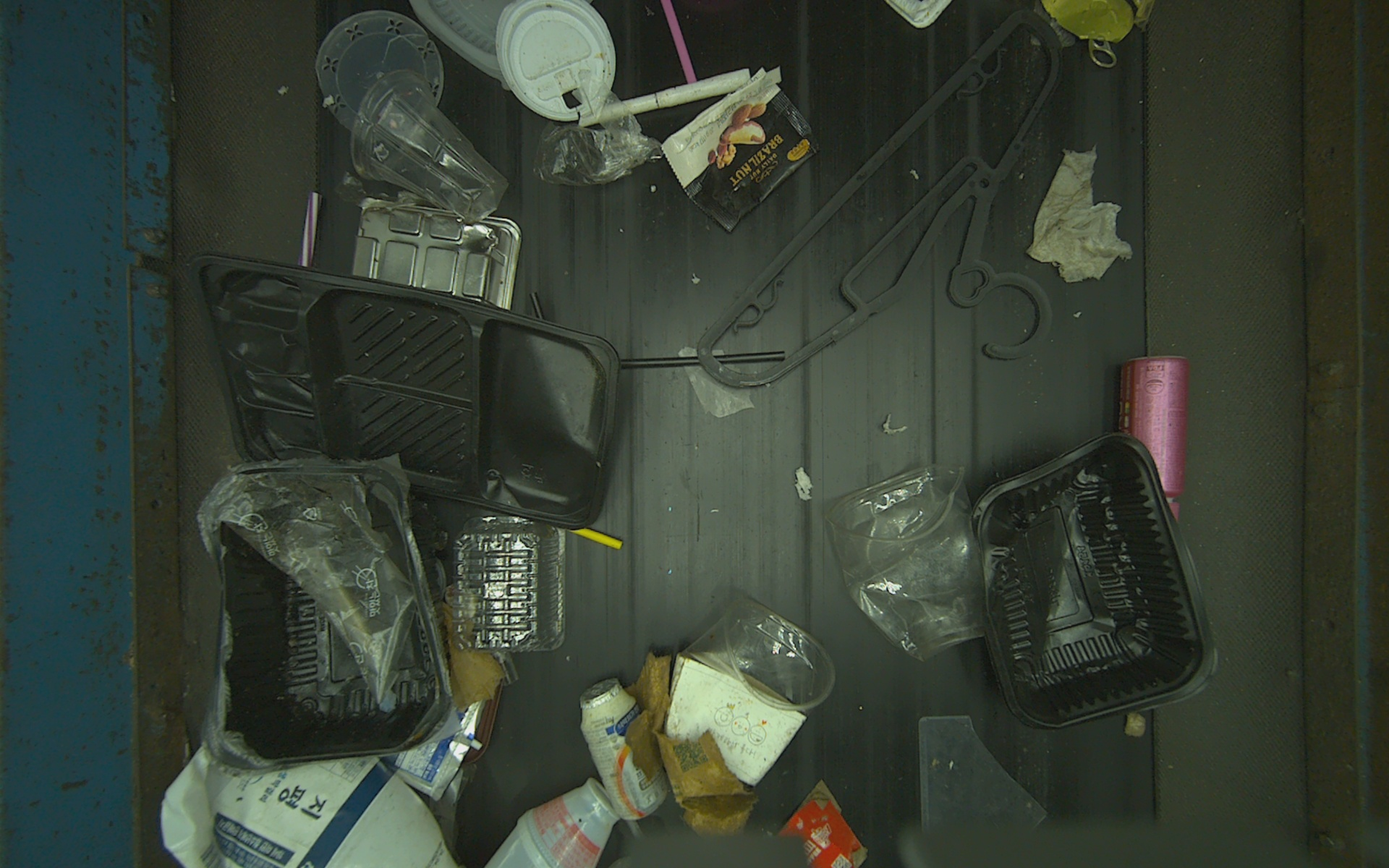PET: (162, 747, 460, 868)
PET-C: (826, 465, 986, 660), (351, 70, 507, 222), (452, 517, 565, 652)
PP-B: (189, 253, 619, 530), (209, 466, 449, 770), (972, 432, 1216, 729)
PS-W: (495, 0, 615, 119), (579, 678, 667, 820), (485, 779, 619, 868), (1119, 356, 1190, 521)
